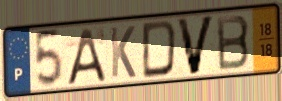5: (33, 26, 65, 91)
A: (65, 26, 108, 87)
B: (215, 13, 252, 73)
D: (141, 18, 179, 80)
K: (109, 24, 138, 80)
V: (175, 14, 217, 78)
